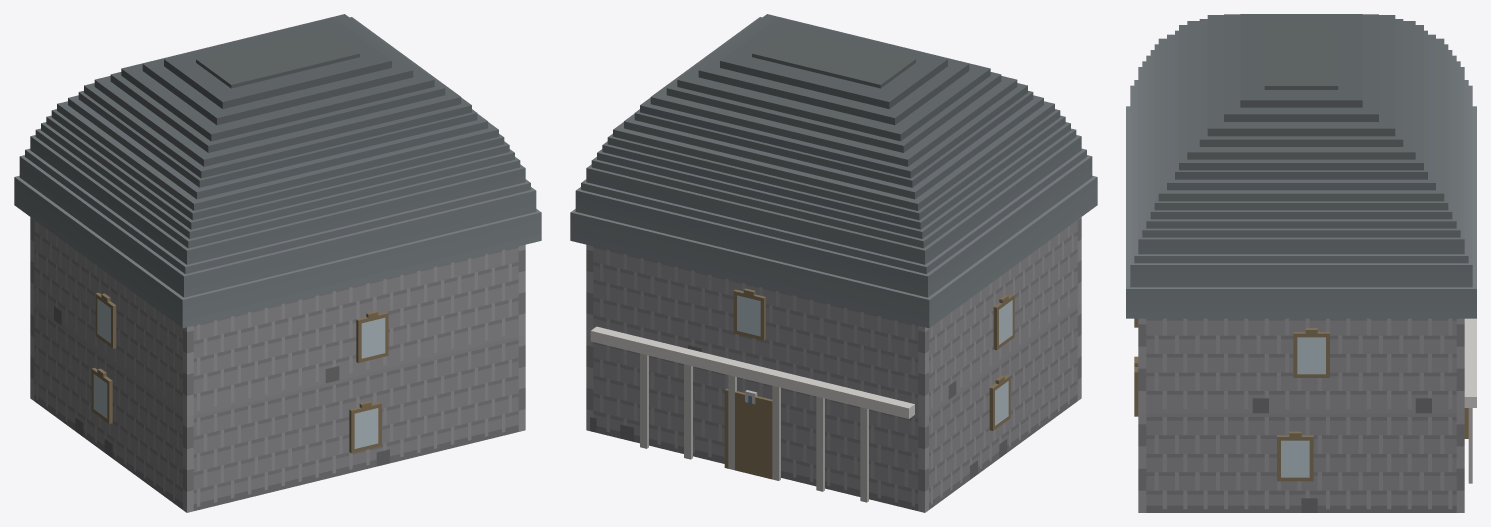
Rendered from casa_de_cambio_01.glb.
3 views of the same model, side by side, from view 1: azimuth 30°, elevation 25°; view 2: azimuth 150°, elevation 25°; view 3: azimuth 270°, elevation 25° (orthographic). The views are drawn at different scales.
Visible parts, largest first — view 1: casa_de_cambio_01; view 2: casa_de_cambio_01; view 3: casa_de_cambio_01.
Part boxes in pixels (<box>): casa_de_cambio_01: <box>14,14,541,512</box>; casa_de_cambio_01: <box>570,14,1097,512</box>; casa_de_cambio_01: <box>1126,14,1476,512</box>.
Bounding box in the file's own units: 10.6 × 10.1 × 8.6.
